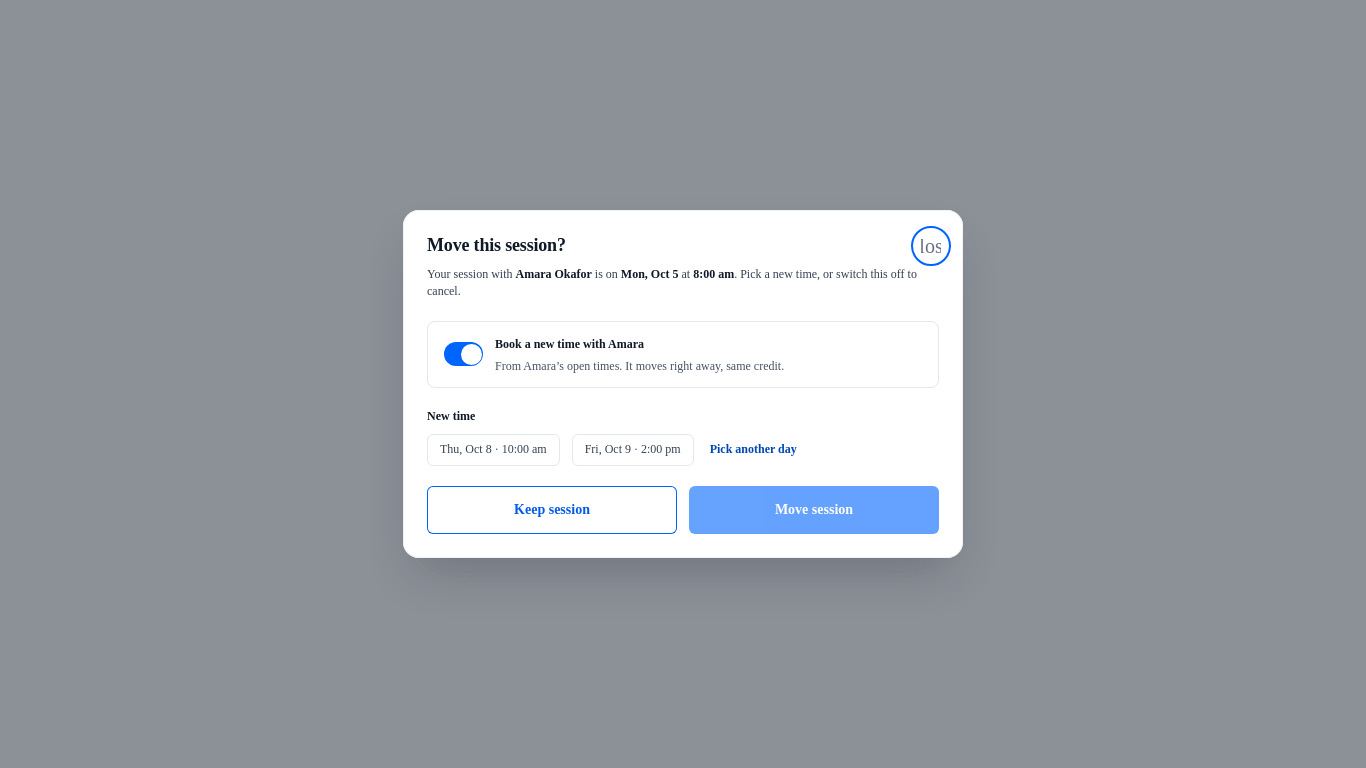
Test case: picking a time and the message › a change of time swaps it inside an edited message, keeping the edit
Click the radio button labelled "Thu, Oct 8 · 10:00 am" at point(493, 450), box [427,434,560,466]
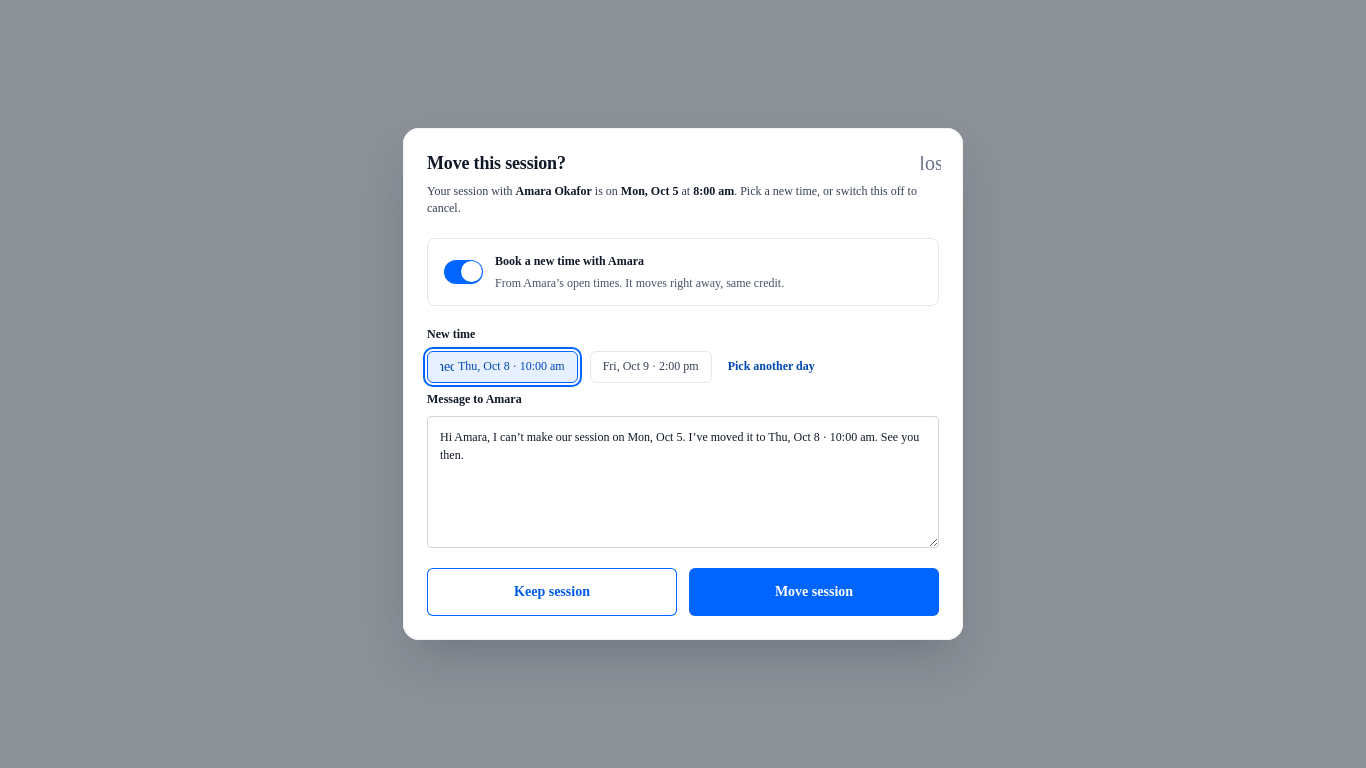
Type " Thanks!" into the text box labelled "Message to Amara" at point(683, 482), box [427,416,939,548]
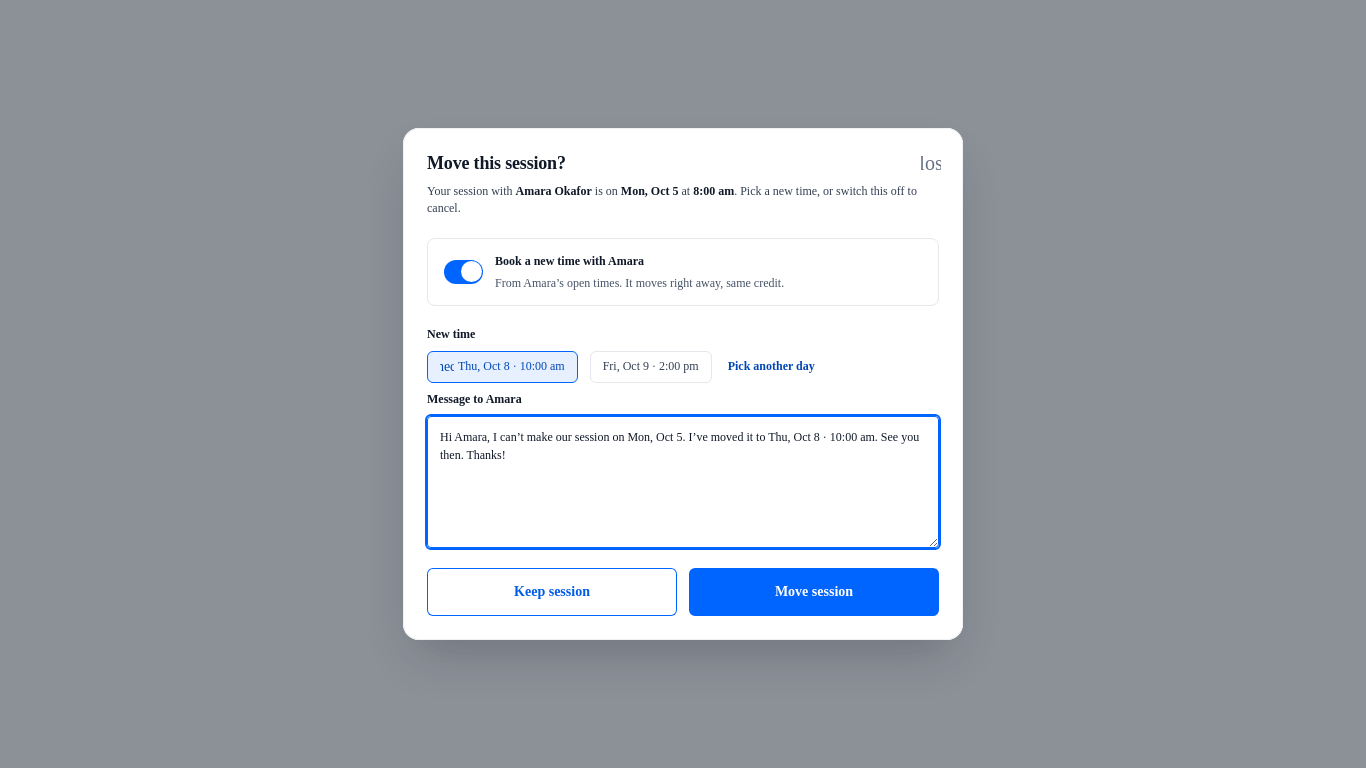
Click the radio button labelled "Fri, Oct 9 · 2:00 pm" at point(651, 367), box [590,351,712,383]
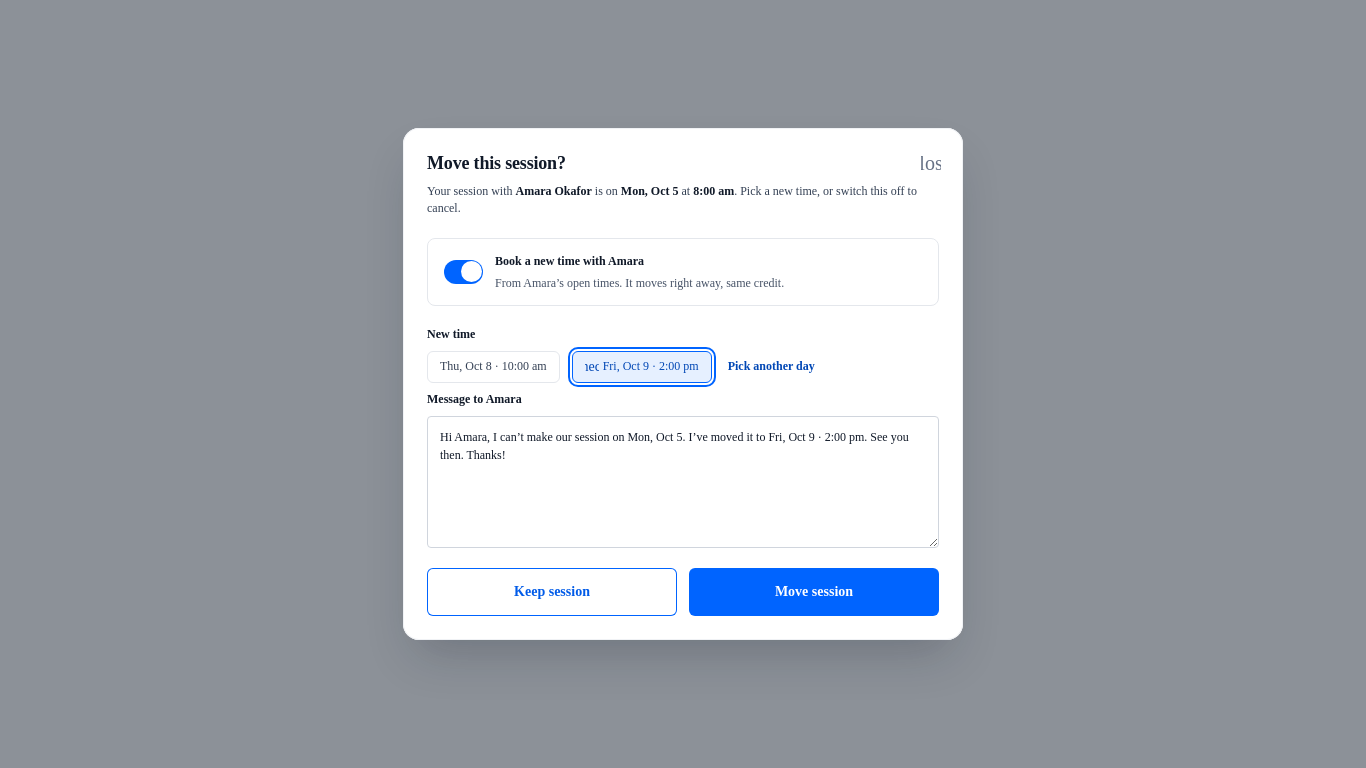
Now the text box labelled "Message to Amara" holds "Hi Amara, I can’t make our session on Mon, Oct 5. I’ve moved it to Fri, Oct 9 · 2:00 pm. See you then. Thanks!", box [427,416,939,548]
